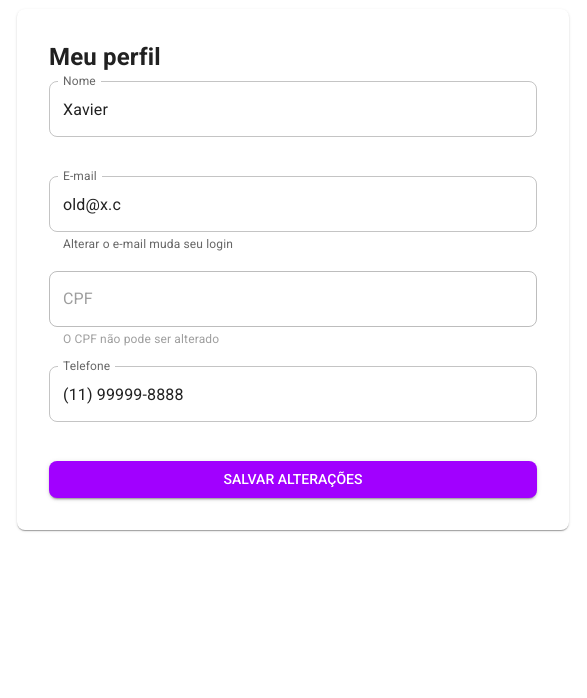
Test case: Profile › mudança de email mostra notify específico
The image size is (587, 698).
Step 1. Replace the text in the field labelled "E-mail" with "new@x.c" → (293, 204), box [49,176,537,232]
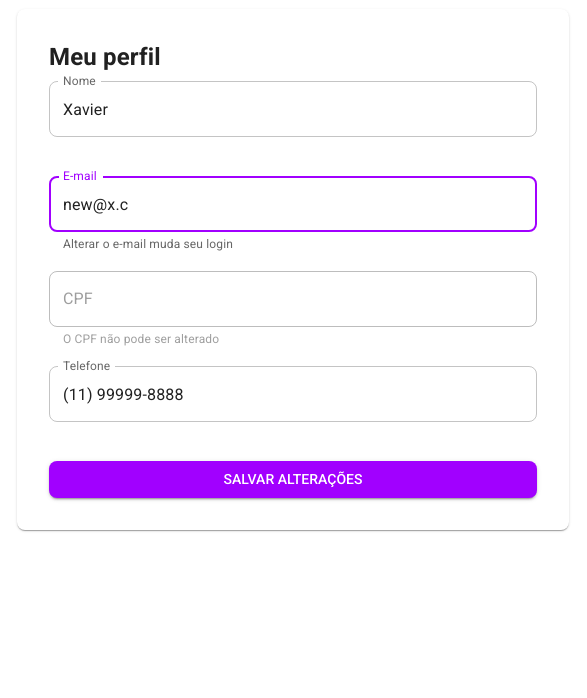
Step 2. Click the button "Salvar alterações" → (293, 479), box [49,461,537,498]
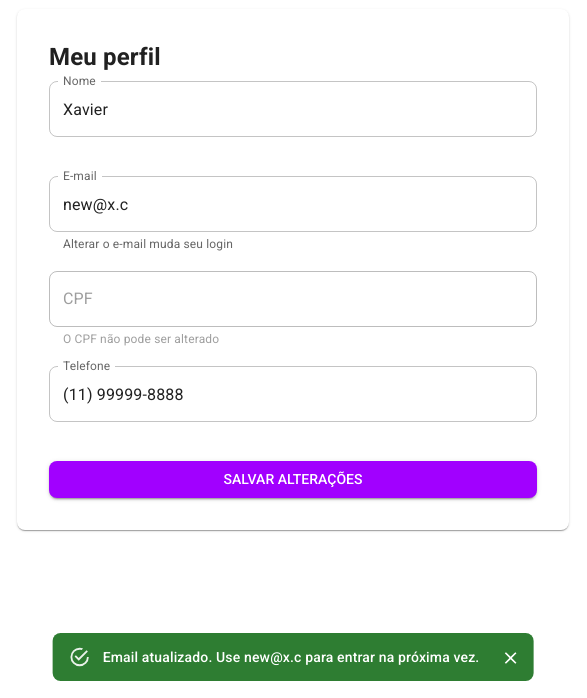
expect the text "Email atualizado. Use new@x.c para entrar na próxima vez." is shown: met, box [103,649,479,665]
